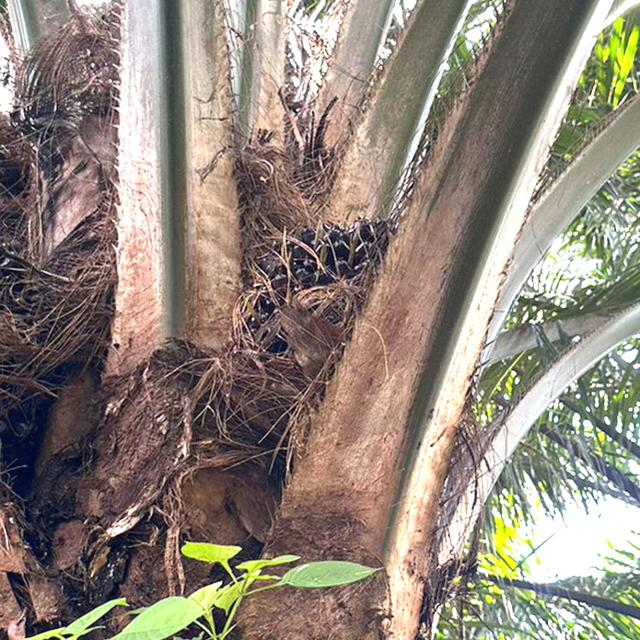ripe: (247, 208, 401, 418)
